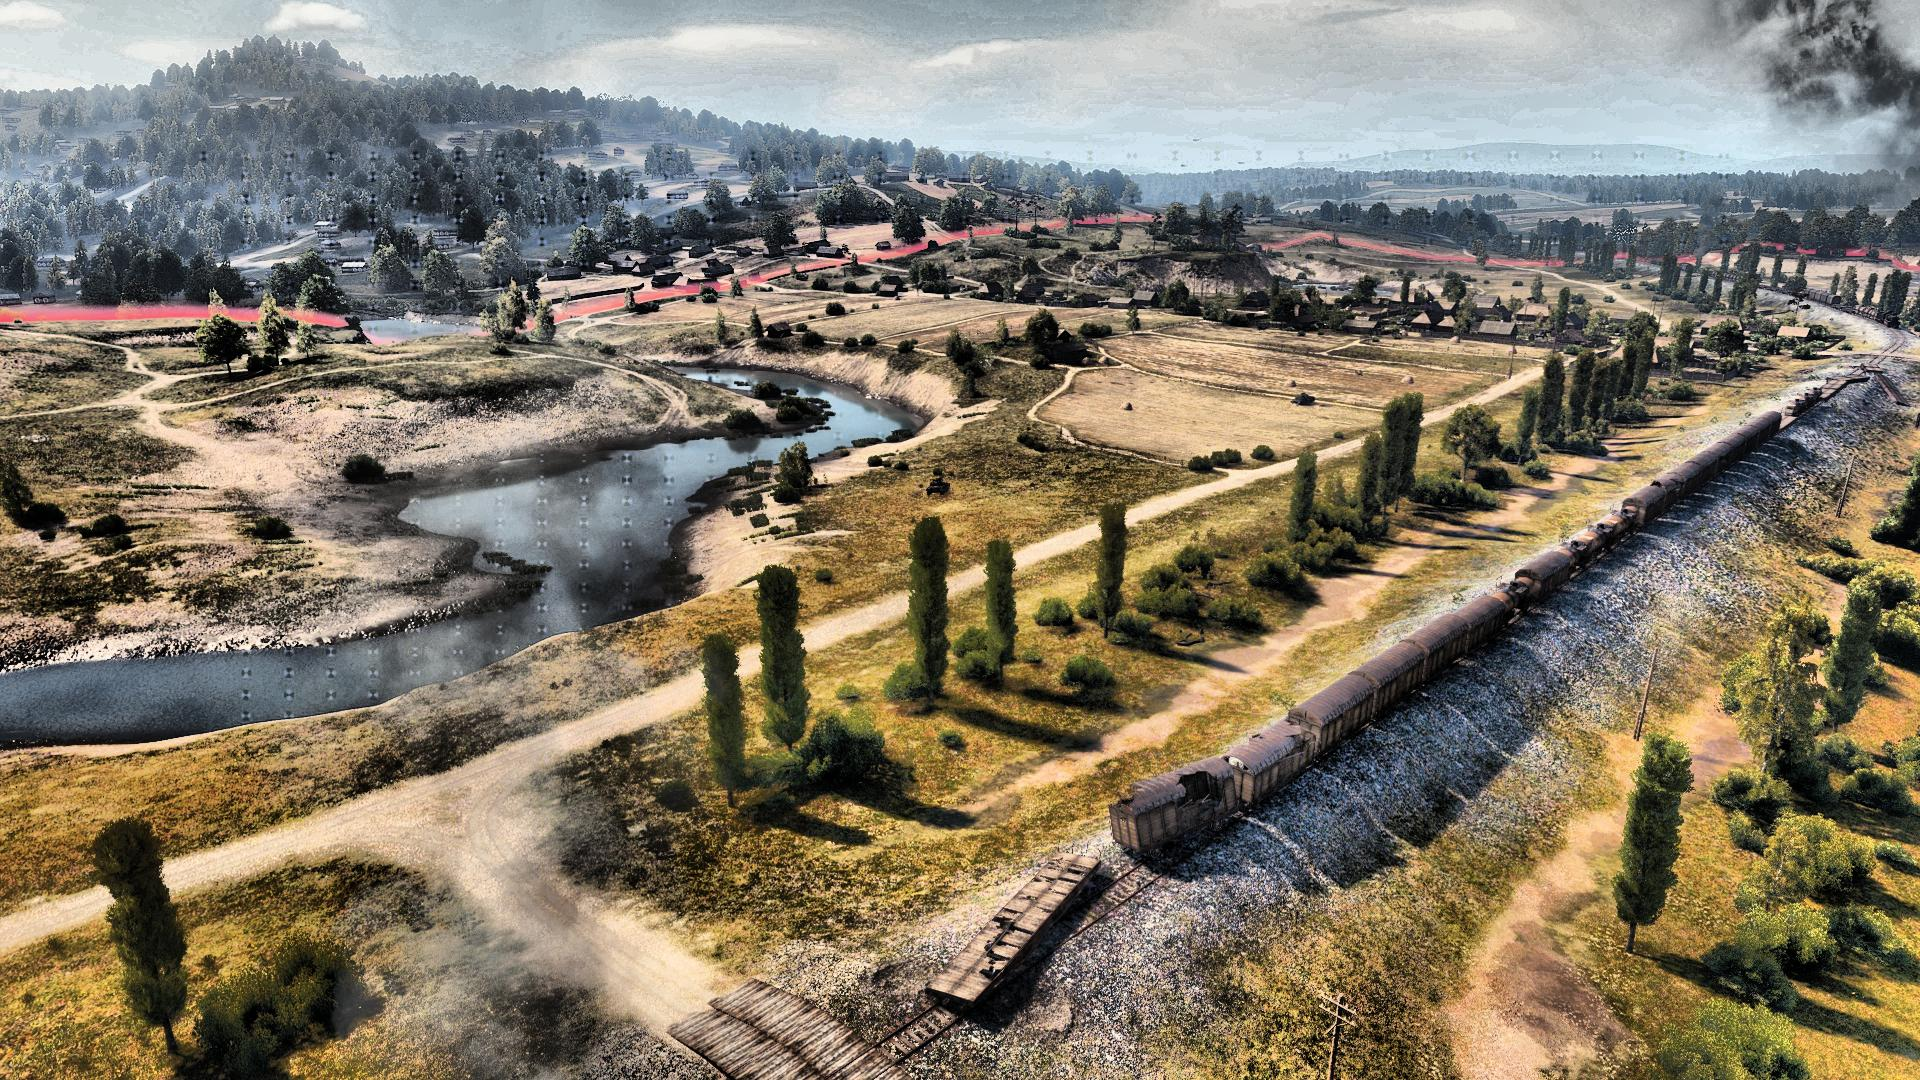military-vehicle: (926, 476, 952, 495)
